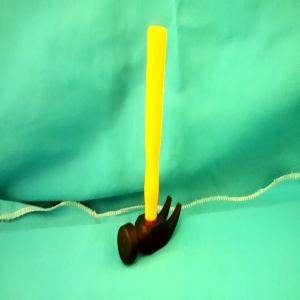martelo: (117, 25, 182, 267)
